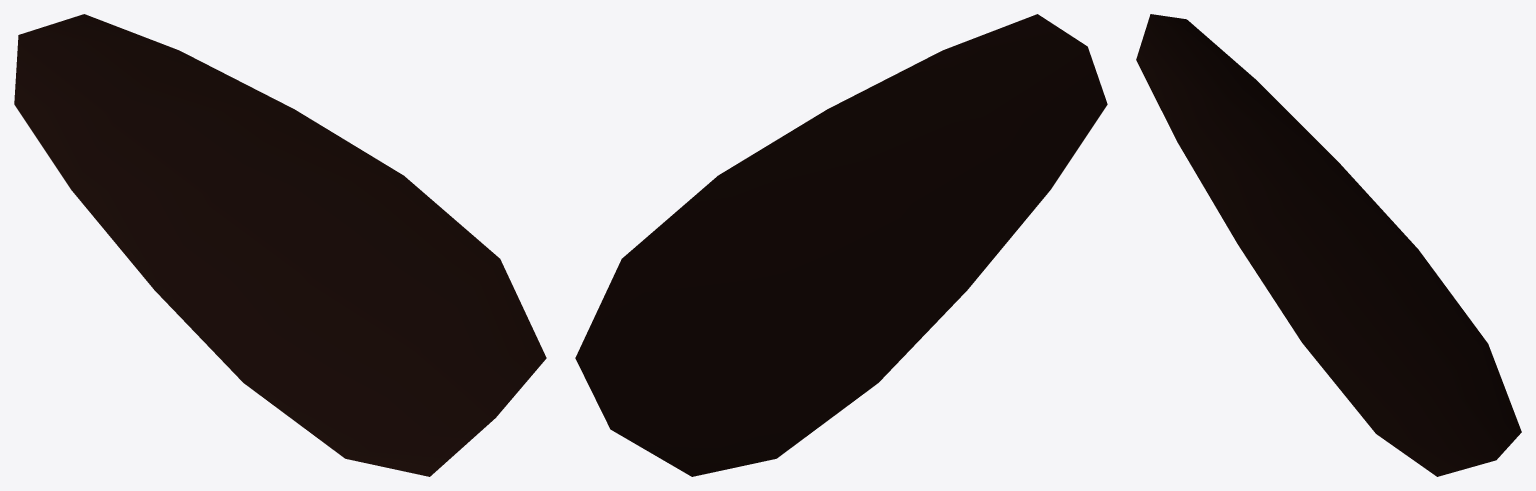
Rendered from finch_feather_flight_secondary_029.obj.
3 renders of one model, left to right at view 1: azimuth 30°, elevation 25°; view 2: azimuth 150°, elevation 25°; view 3: azimuth 330°, elevation 25°, orthographic. The views are drawn at different scales.
Visible parts, largest first — view 1: feather_flight_secondary_029; view 2: feather_flight_secondary_029; view 3: feather_flight_secondary_029.
Boxes of the visible parts, x1,y1,x2,y2 form: feather_flight_secondary_029: (14,14,546,476); feather_flight_secondary_029: (575,14,1107,476); feather_flight_secondary_029: (1136,14,1521,476).
Size of the model in its own units: 0.0131 by 0.0129 by 0.000337.
